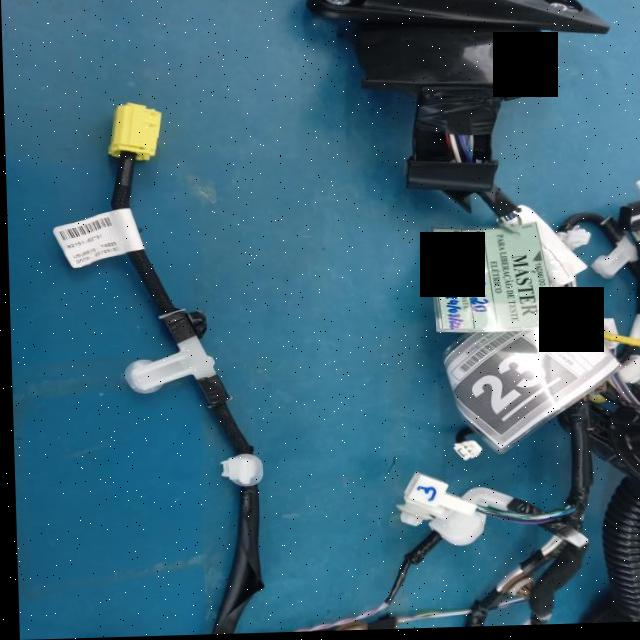cable: (381, 391, 596, 632), (106, 244, 212, 354), (190, 367, 253, 466), (455, 582, 516, 636), (106, 149, 137, 211), (513, 549, 544, 580)
connector: (106, 101, 161, 163)
label: (425, 272, 629, 462), (427, 228, 556, 336), (50, 204, 141, 272)
